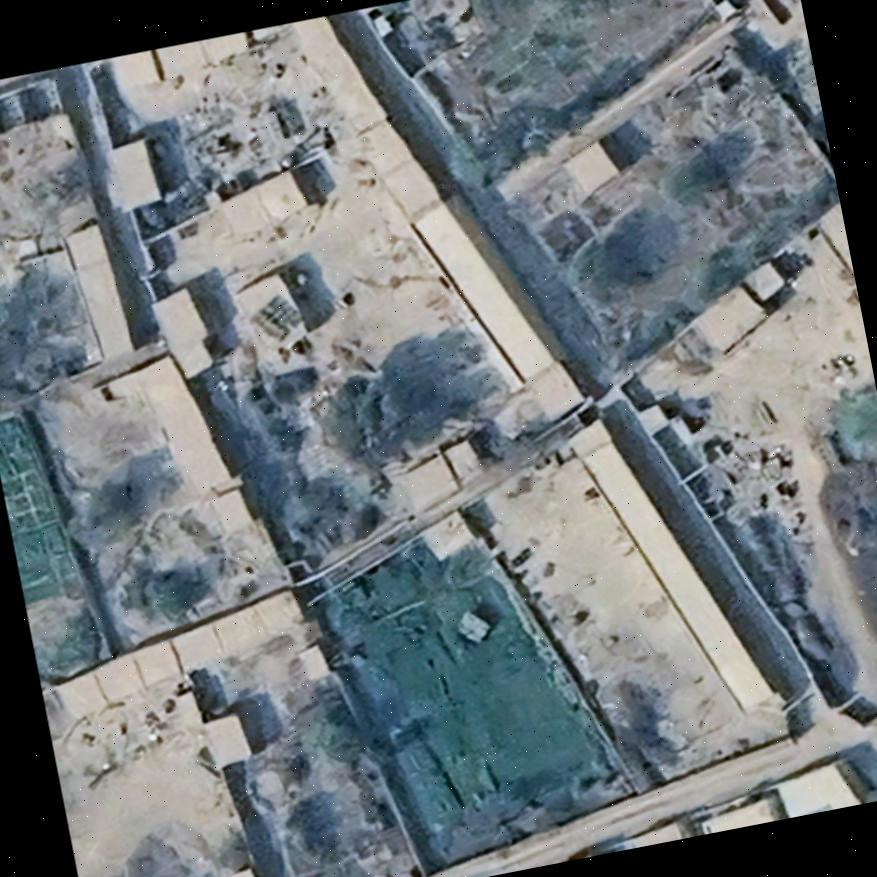Solarpanel: (246, 304, 293, 345)
